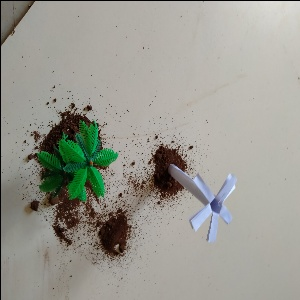plant: (37, 127, 114, 203)
weed: (161, 153, 240, 237)
